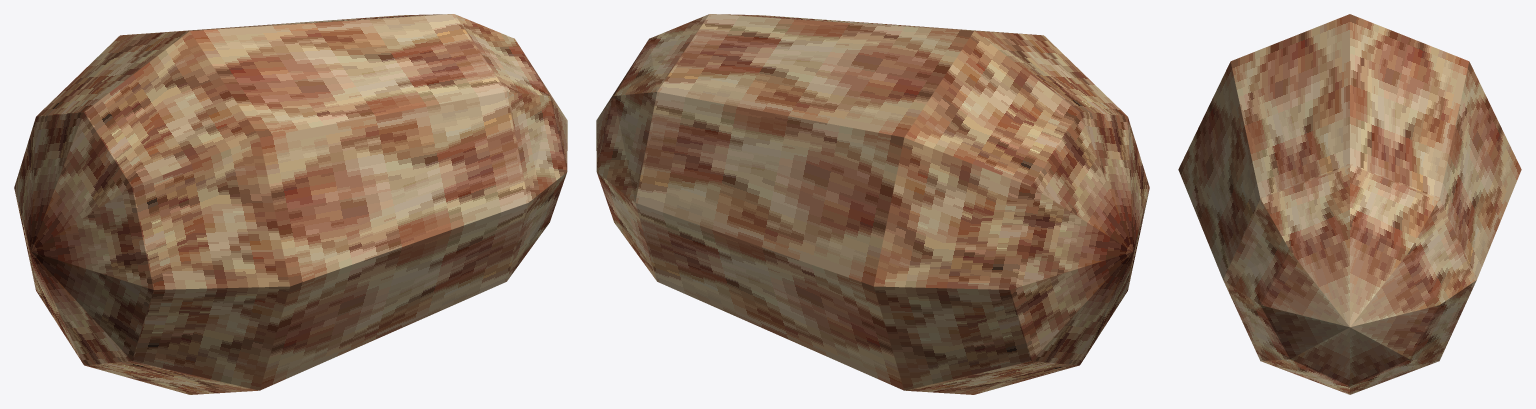
File: C1SNPCONEC.obj
The picture shows the model from 3 angles, left to right: view 1: azimuth 30°, elevation 25°; view 2: azimuth 150°, elevation 25°; view 3: azimuth 270°, elevation 25°; orthographic projection. The views are drawn at different scales.
Visible parts, largest first — view 1: Node 0; view 2: Node 0; view 3: Node 0.
Boxes of the visible parts, left/top/right/bottom form: Node 0: left=14, top=14, right=567, bottom=394; Node 0: left=596, top=14, right=1149, bottom=394; Node 0: left=1178, top=14, right=1521, bottom=394.
Size of the model in its own units: 0.71 by 0.46 by 0.46.
Materials: 1 (1 with a texture image).
